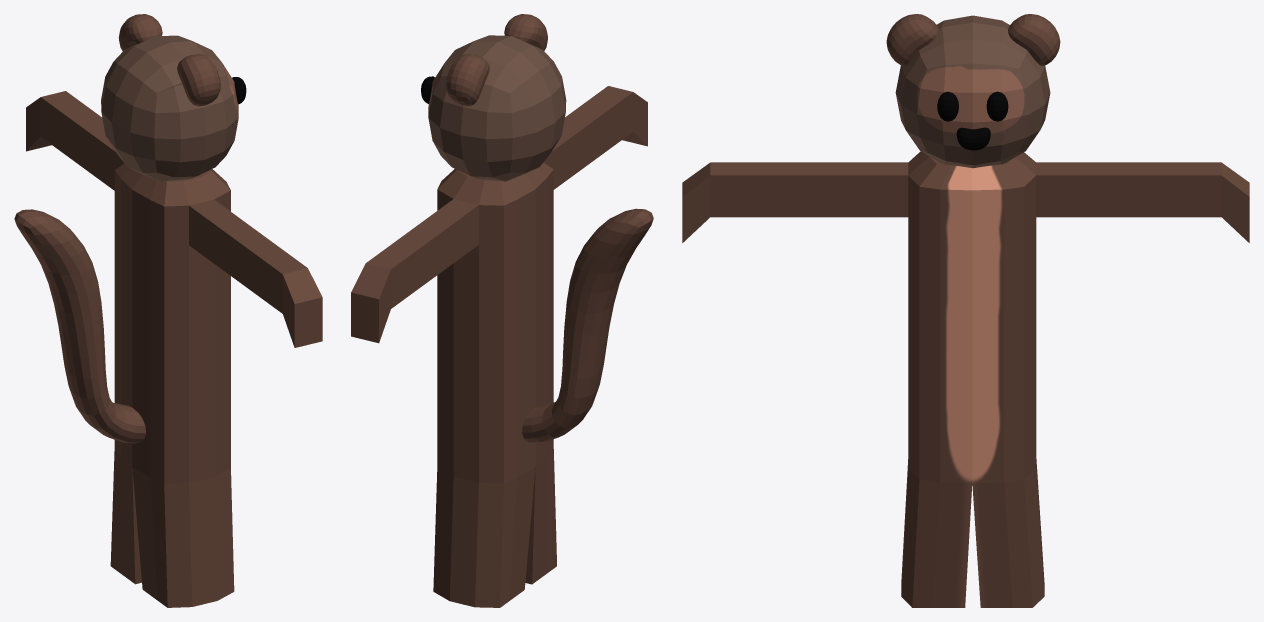
The model's file is cookie.glb.
3 views of the same model, side by side, from view 1: azimuth 30°, elevation 25°; view 2: azimuth 150°, elevation 25°; view 3: azimuth 270°, elevation 25° (orthographic). The views are drawn at different scales.
Parts seen in each view (by area): view 1: Cubo.001, Cubo, Cubo.007, Cubo.005, Cubo.006; view 2: Cubo.001, Cubo, Cubo.007, Cubo.006, Cubo.005; view 3: Cubo.001, Cubo, Cubo.006, Cubo.005.
Boxes of the visible parts, x1,y1,x2,y2 form: Cubo.001: (26, 91, 322, 607); Cubo: (101, 35, 238, 181); Cubo.007: (14, 209, 145, 443); Cubo.005: (177, 54, 220, 106); Cubo.006: (118, 14, 162, 51); Cubo.001: (351, 86, 647, 607); Cubo: (428, 35, 566, 181); Cubo.007: (522, 208, 653, 442); Cubo.006: (446, 54, 489, 106); Cubo.005: (504, 14, 547, 50); Cubo.001: (682, 151, 1249, 607); Cubo: (895, 15, 1050, 168); Cubo.006: (1008, 14, 1060, 65); Cubo.005: (886, 14, 938, 65).
Size of the model in its own units: 2.01 by 4.8 by 4.3.
Materials: 8 (3 with a texture image).
